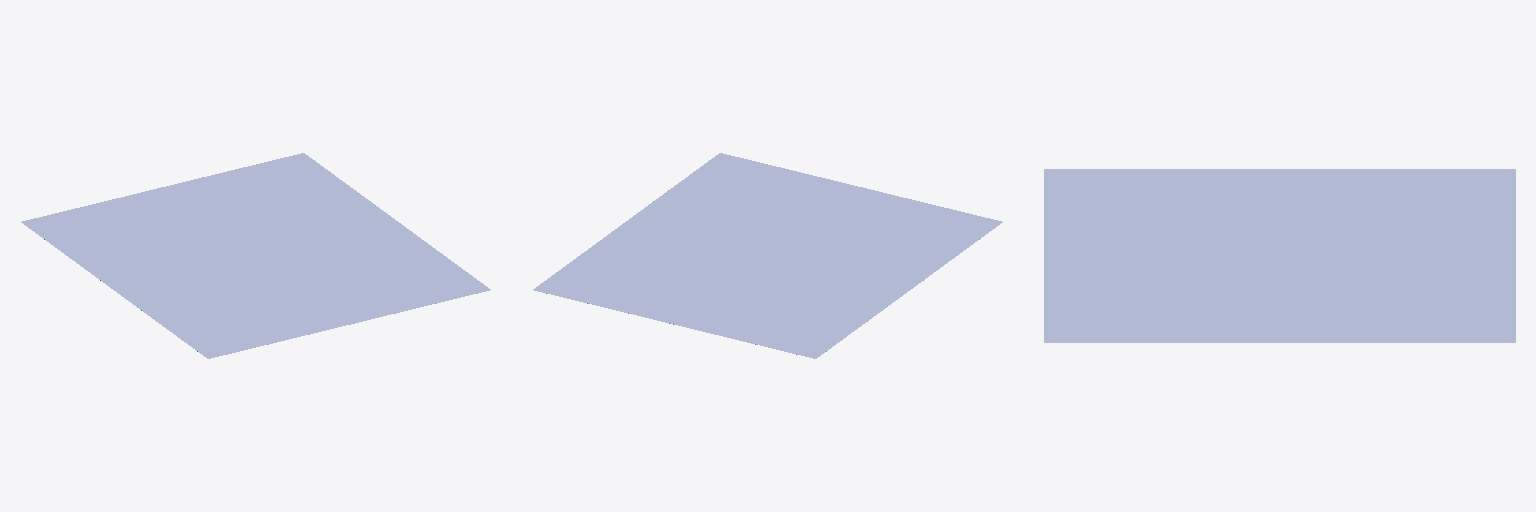
The robot description file, URDF, robot "robocup2019":
<robot
  name="robocup2019">
  <link
    name="floor">
    <inertial>
      <origin
        xyz="0.115 -0.825 -0.0005"
        rpy="0 0 0" />
      <mass
        value="12000" />
      <inertia
        ixx="0"
        ixy="0"
        ixz="0"
        iyy="0"
        iyz="0"
        izz="0" />
    </inertial>
    <visual>
      <origin
        xyz="0 0 0"
        rpy="0 0 0" />
      <geometry>
        <mesh
          filename="package://worlds/meshes/floor.STL" />
      </geometry>
      <material
        name="">
        <color
          rgba="0.79216 0.81961 0.93333 0" />
      </material>
    </visual>
    <collision>
      <origin
        xyz="0 0 0"
        rpy="0 0 0" />
      <geometry>
        <mesh
          filename="package://worlds/meshes/floor.STL" />
      </geometry>
    </collision>
  </link>
</robot>

--- Render facts (derived) ---
The picture shows the robot from 3 angles, left to right: view 1: azimuth 30°, elevation 25°; view 2: azimuth 150°, elevation 25°; view 3: azimuth 270°, elevation 25°; orthographic projection.
Model robocup2019 with 1 links and 0 joints (none), rooted at floor, posed every joint at zero.
Visible links, largest first — view 1: floor; view 2: floor; view 3: floor.
Boxes of the visible links, x1,y1,x2,y2 form: floor: (21,153,490,358); floor: (533,153,1002,358); floor: (1044,169,1515,342).
Bounding box of the posed robot: 10.25 × 11.75 × 0.001 m (x, y, z).
1 mesh visuals loaded from 1 distinct referenced files (1 binary STL).
